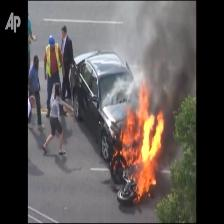fire: (119, 81, 163, 201)
